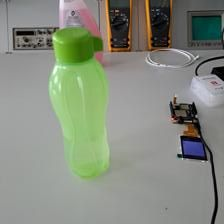bottle: (47, 27, 109, 181)
